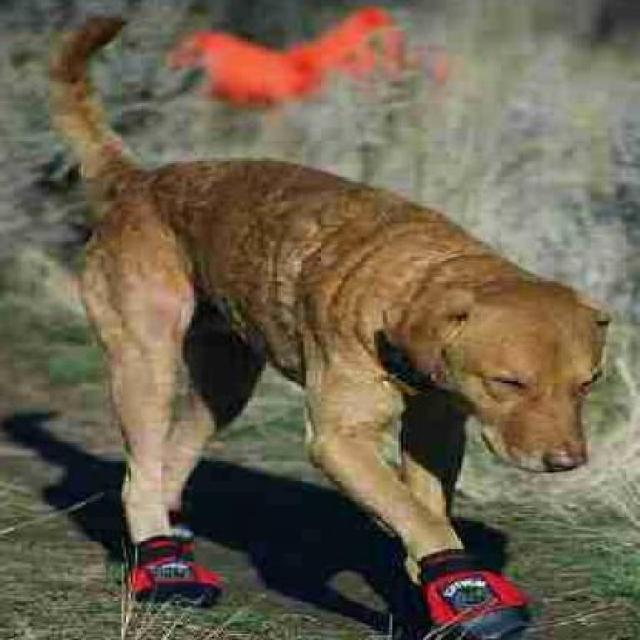Dog: (46, 16, 622, 630)
